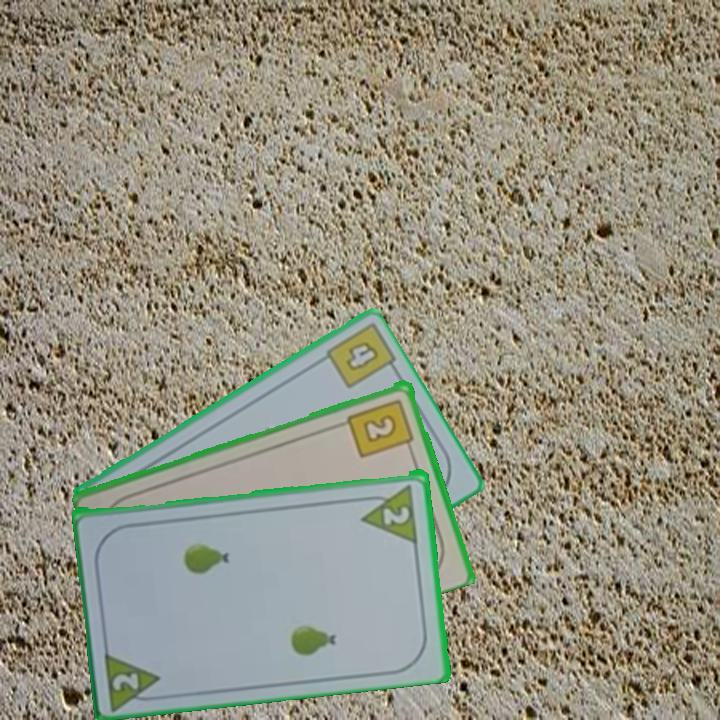2b: (344, 395, 417, 461)
2p: (357, 480, 421, 544), (109, 668, 142, 693)
4b: (342, 337, 383, 374)
